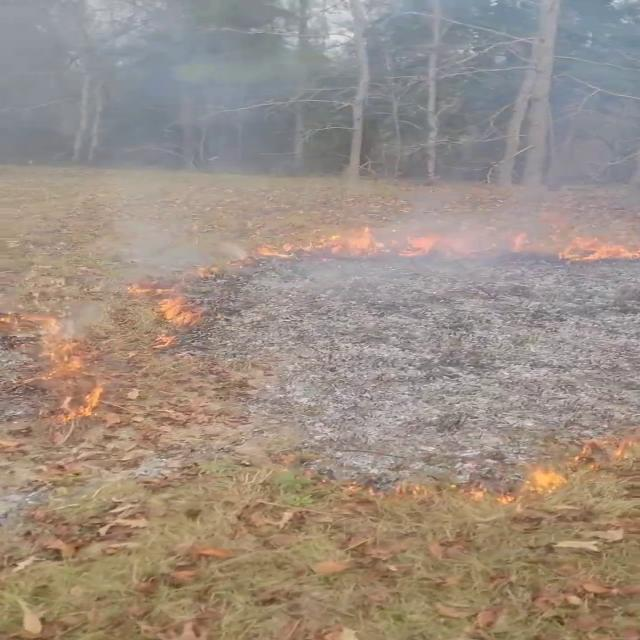Smoke: (4, 0, 640, 318)
